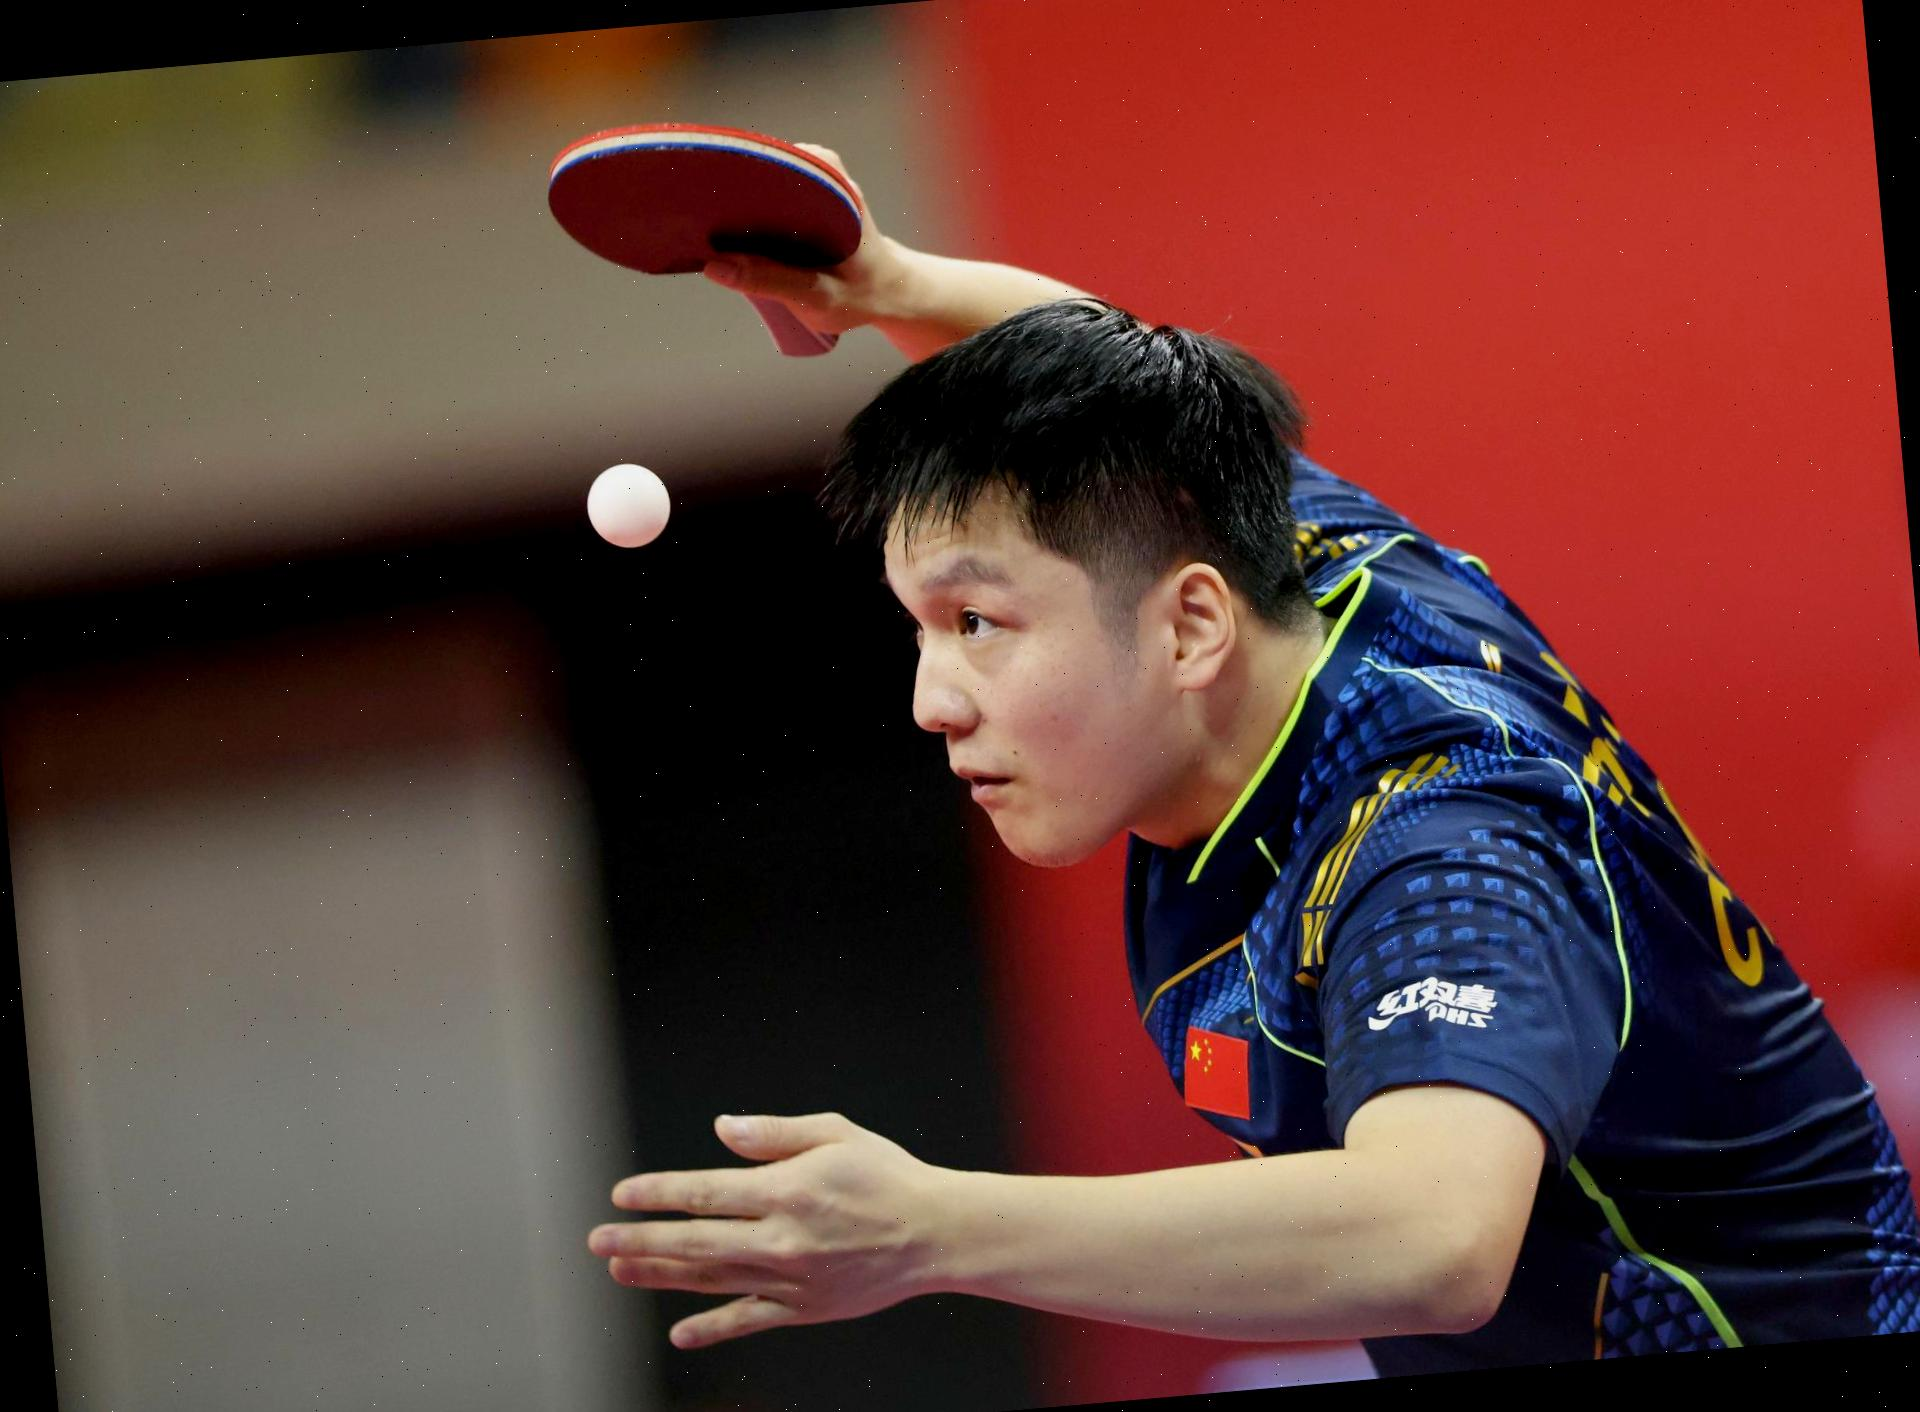ball: (571, 443, 684, 570)
